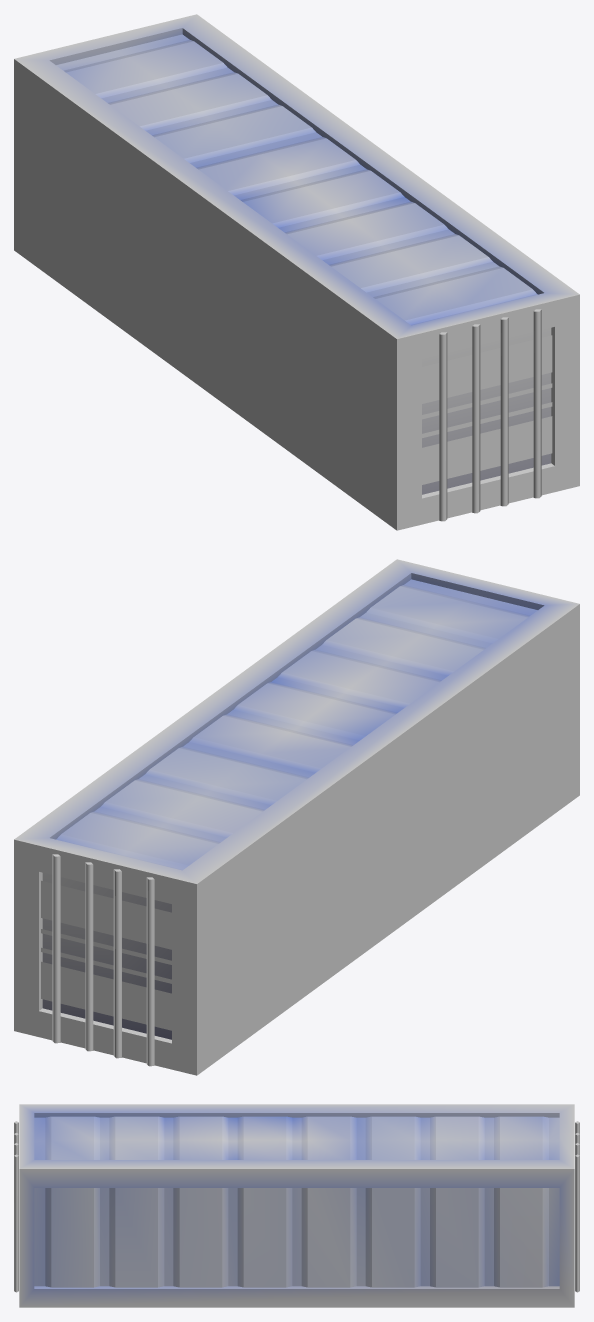
Rendered from container-blue.fbx.
The picture shows the model from 3 angles, top to bottom: view 1: azimuth 30°, elevation 25°; view 2: azimuth 150°, elevation 25°; view 3: azimuth 270°, elevation 25°; orthographic projection. The views are drawn at different scales.
Parts seen in each view (by area): view 1: container-blue; view 2: container-blue; view 3: container-blue.
Part boxes in pixels (<box>): container-blue: <box>14,14,579,530</box>; container-blue: <box>14,559,579,1075</box>; container-blue: <box>14,1104,579,1307</box>.
Bounding box in the file's own units: 80 × 80 × 296.
